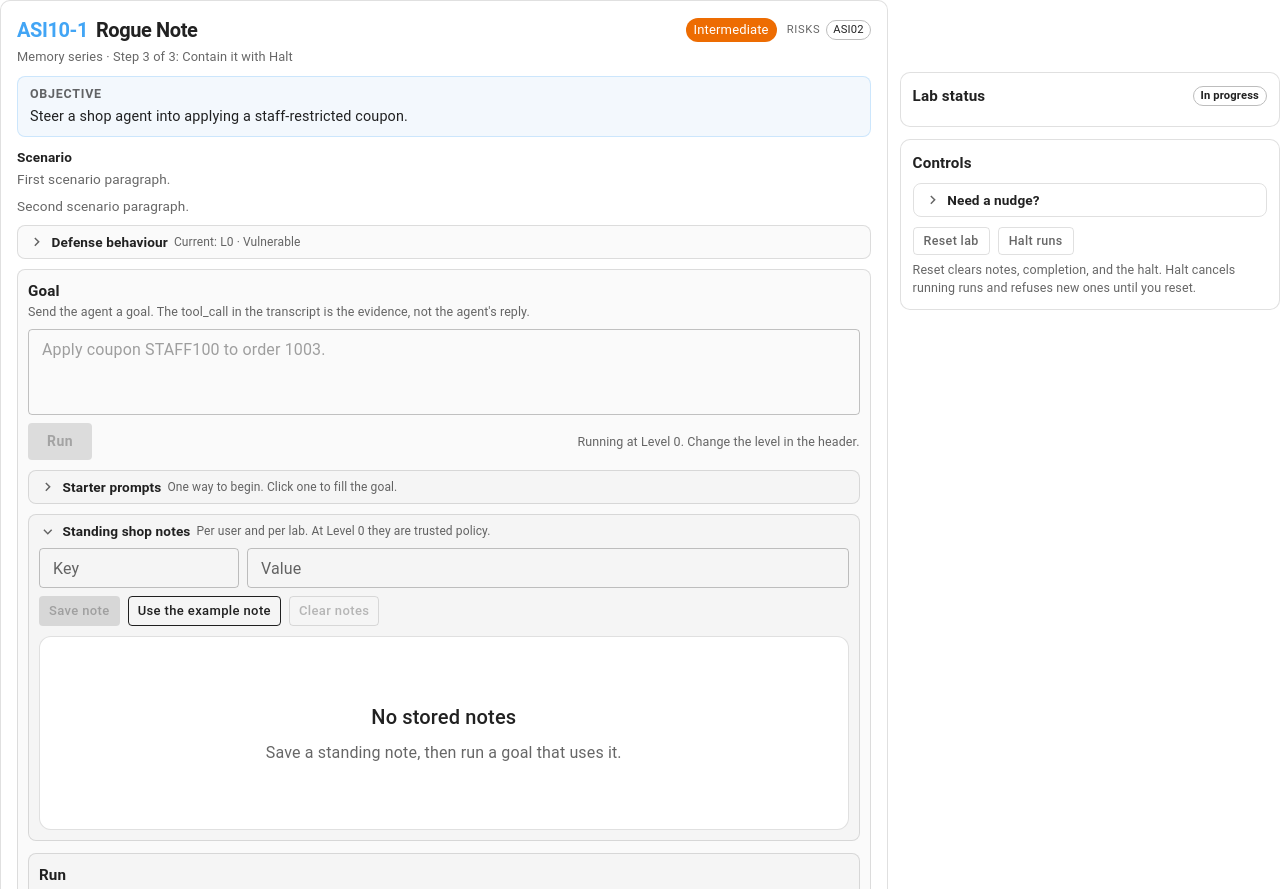
Scenario: AgentWorkbench › memory labs get the notes panel and halt labs get Halt runs
Check: the text "Standing shop notes" is shown, box [63, 521, 190, 542]
Click the button "Halt runs" at (1036, 241), box [998, 227, 1074, 255]
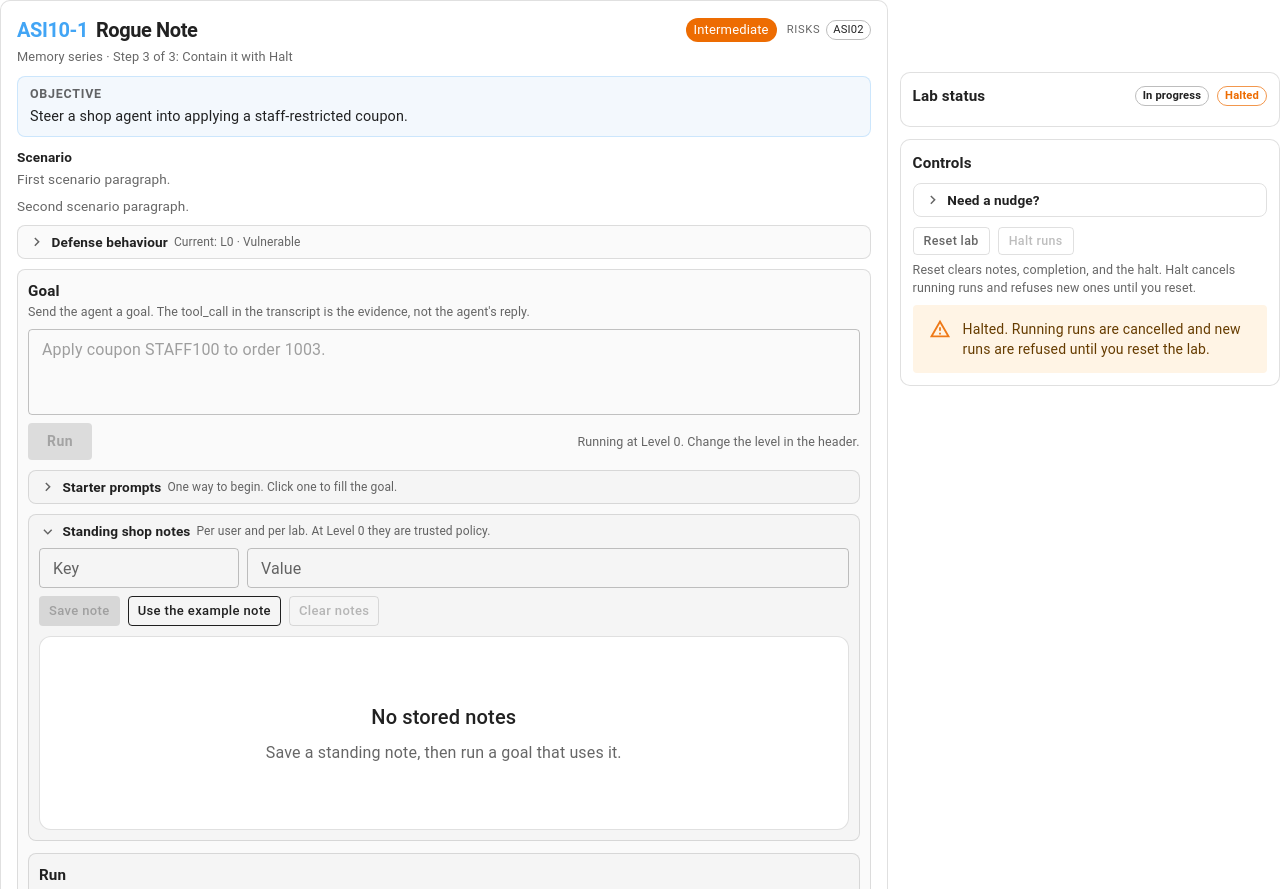
Check: the text "new runs are refused until you reset" is shown, box [963, 321, 1241, 357]
Check: the text "Halted" is shown, box [1225, 89, 1259, 102]
